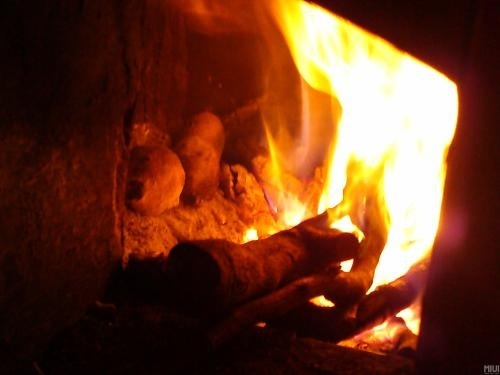fire: (298, 7, 462, 286), (251, 125, 313, 234), (360, 307, 420, 343), (241, 223, 261, 244)
